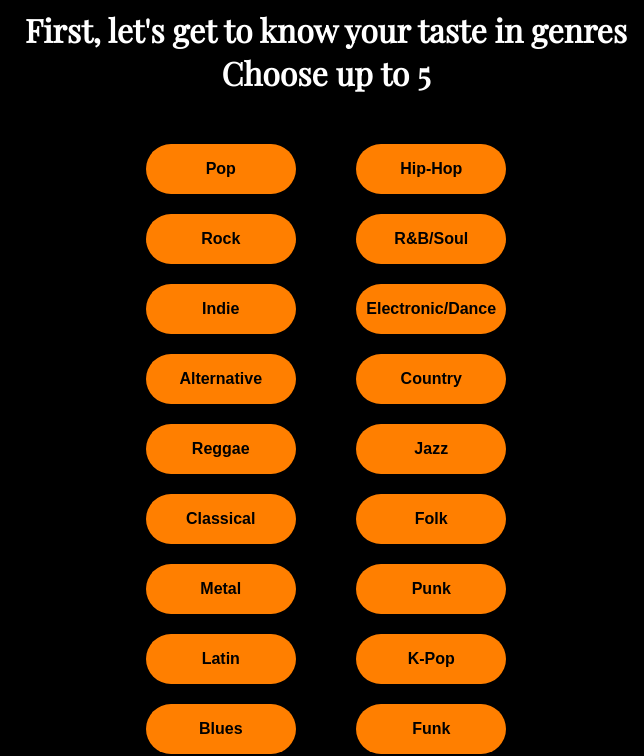
Test: LandingPage › renders a new page if 5 genres are clicked
Click the button "Pop".
click(221, 169)  # box left=146, top=144, right=296, bottom=194
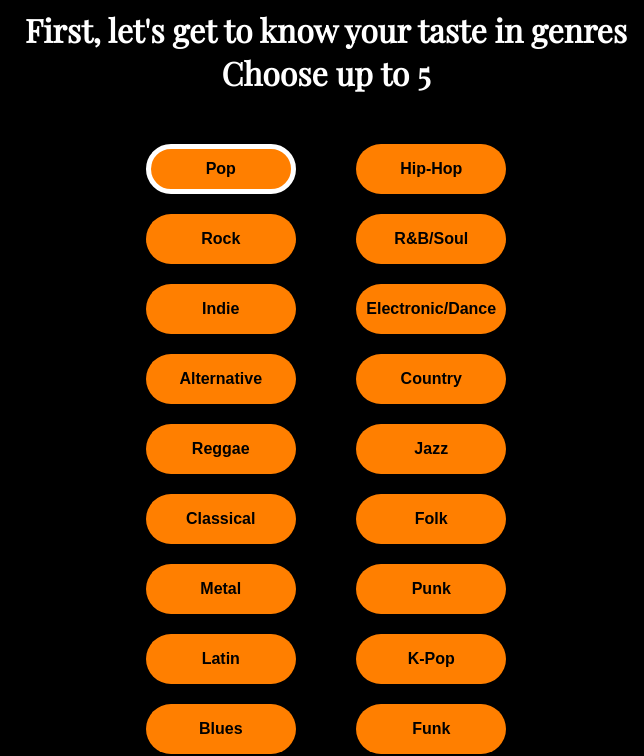
Click the button "Hip-Hop".
click(431, 169)  # box left=356, top=144, right=506, bottom=194
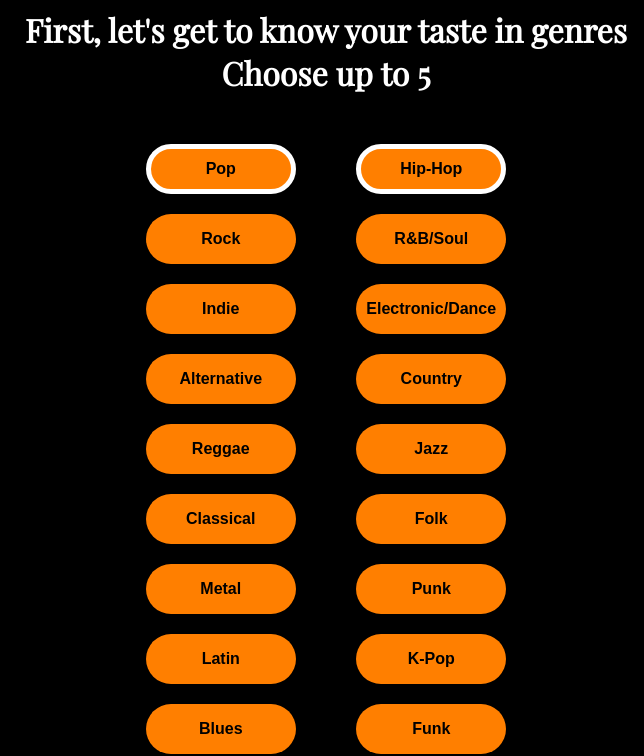
Click the button "Rock".
click(221, 239)  # box left=146, top=214, right=296, bottom=264
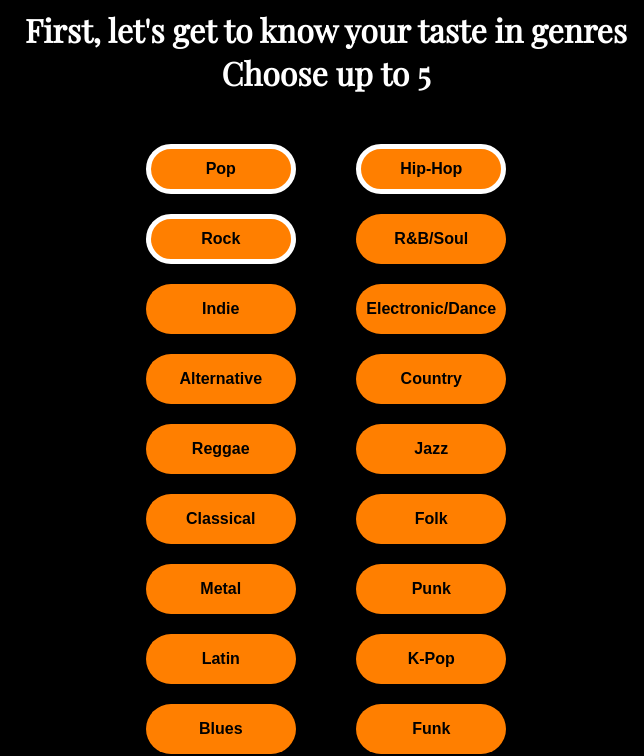
Click the button "R&B/Soul".
click(431, 239)  # box left=356, top=214, right=506, bottom=264
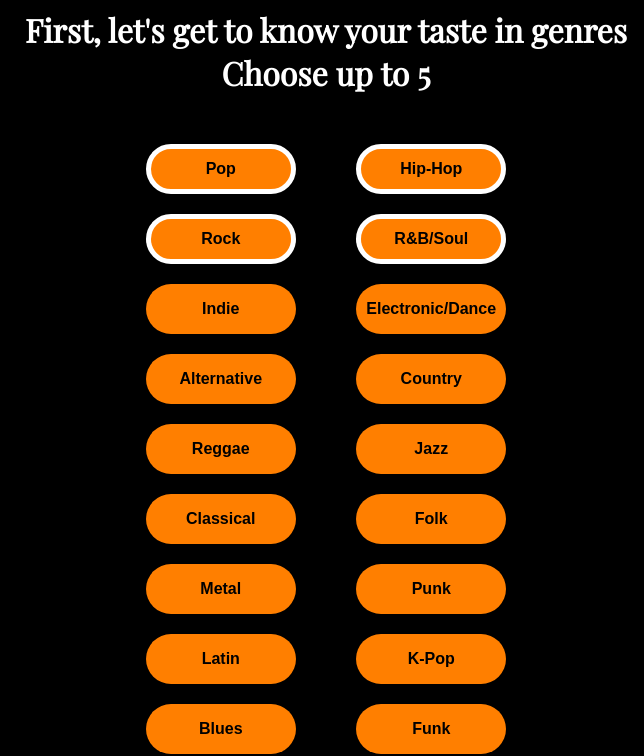
Click the button "Indie".
click(221, 309)  # box left=146, top=284, right=296, bottom=334
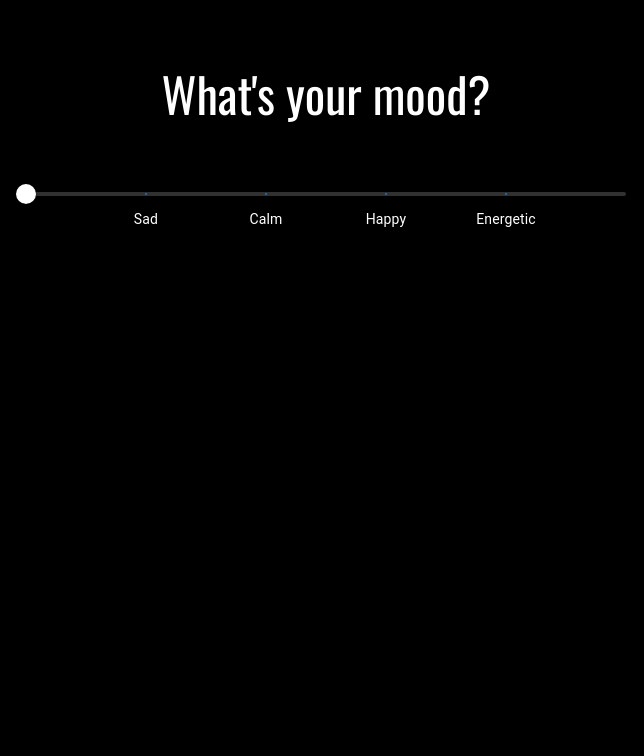
Check: the heading "First, let's get to know your taste in genres" is gone
